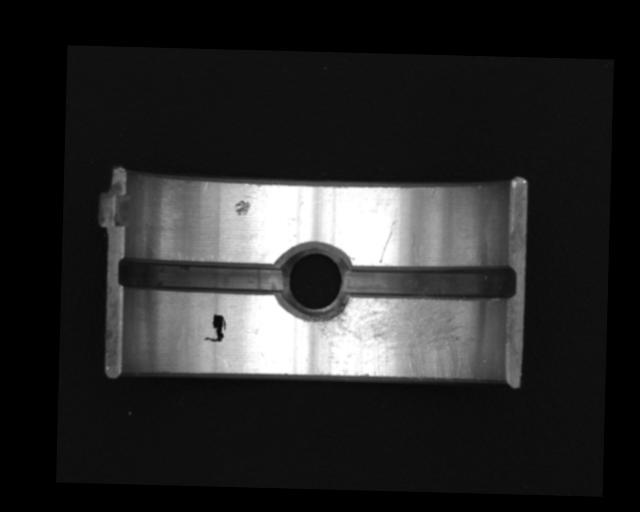blot: (204, 312, 227, 343)
bruise: (233, 199, 251, 216)
gap: (341, 260, 516, 303), (119, 257, 285, 296)
hole: (278, 243, 349, 322)
nick: (378, 220, 396, 264)
scratch: (316, 297, 482, 380)
